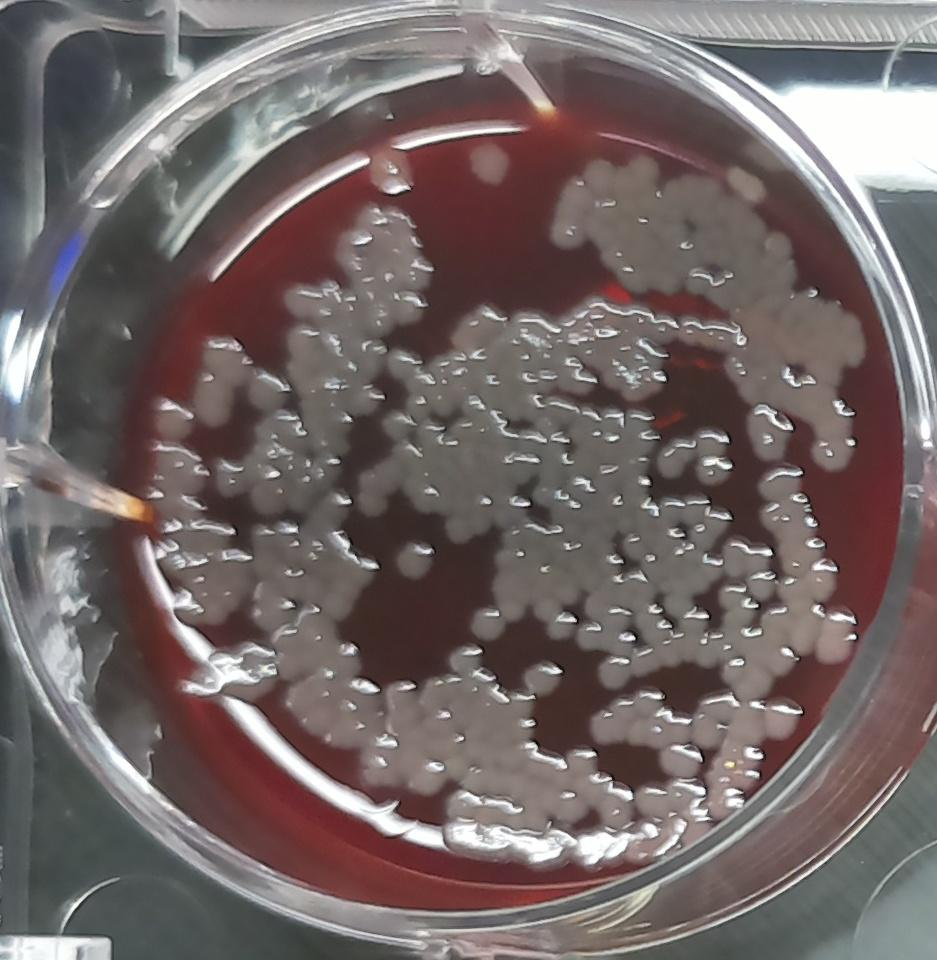paeruginosa: (334, 197, 436, 334), (757, 460, 842, 596), (187, 330, 246, 431), (742, 401, 799, 464), (692, 420, 739, 490), (463, 138, 518, 192), (390, 532, 441, 586), (518, 654, 567, 696), (466, 600, 509, 646)
